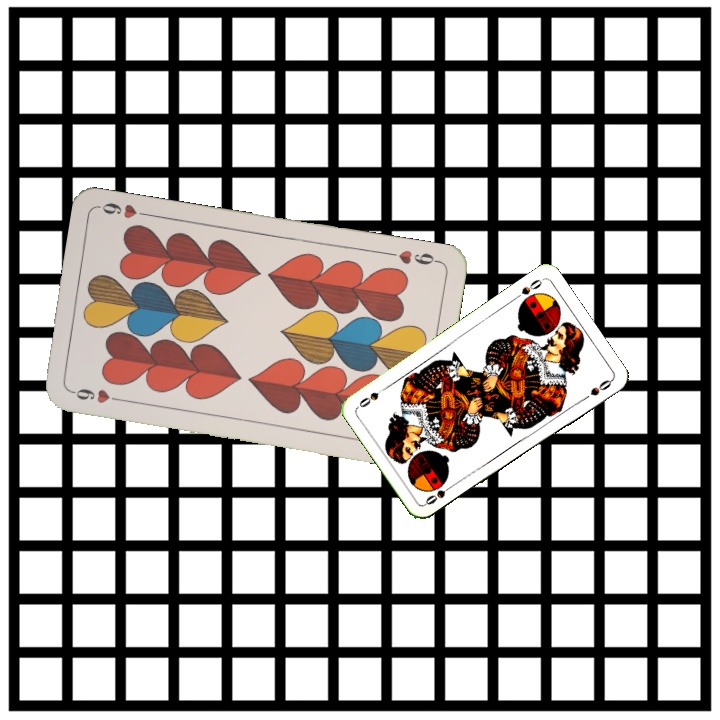H9: (383, 246, 442, 268), (67, 384, 126, 406)
SO: (421, 480, 457, 508), (510, 275, 545, 302)
